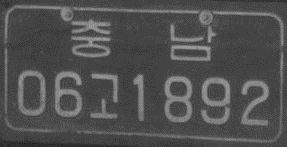0: (16, 70, 46, 117)
1: (126, 73, 155, 123)
2: (241, 78, 270, 126)
6: (53, 70, 82, 117)
8: (163, 75, 192, 124)
9: (200, 77, 231, 125)
고: (88, 71, 120, 120)
충남_D: (70, 18, 217, 62)
